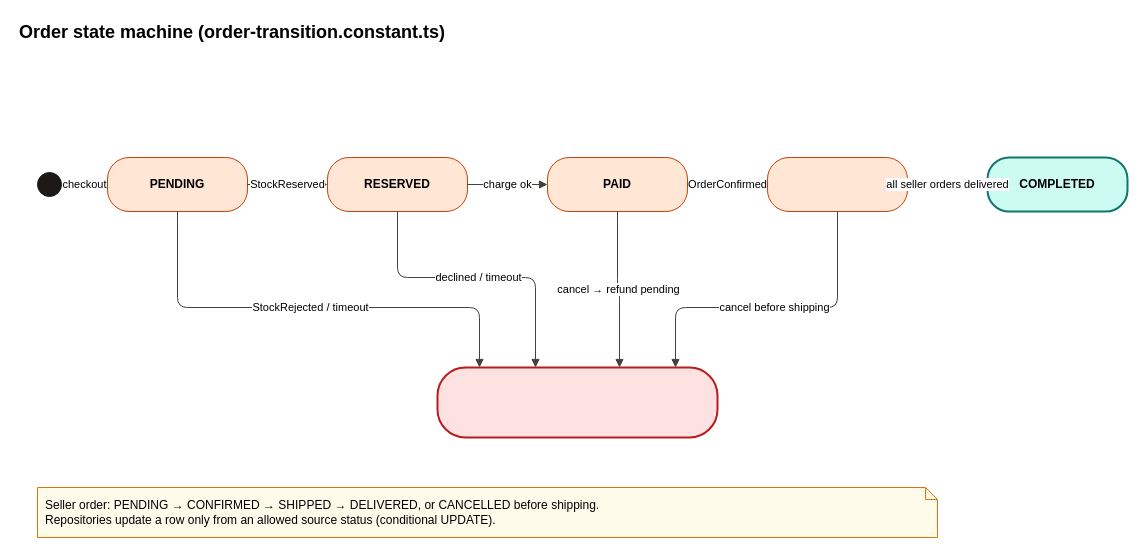
The diagram is 1145 pixels wide and 555 high, and some of its shapes have lost their labels. The centre of each missing label's shape, as x and y in pixels:
"CANCELLED PAYMENT_FAILED · OUT_OF_STOCK RESERVATION_TIMEOUT · SHOPPER_CANCELLED" belongs at (x=577, y=402).
"CONFIRMED" belongs at (x=837, y=184).
